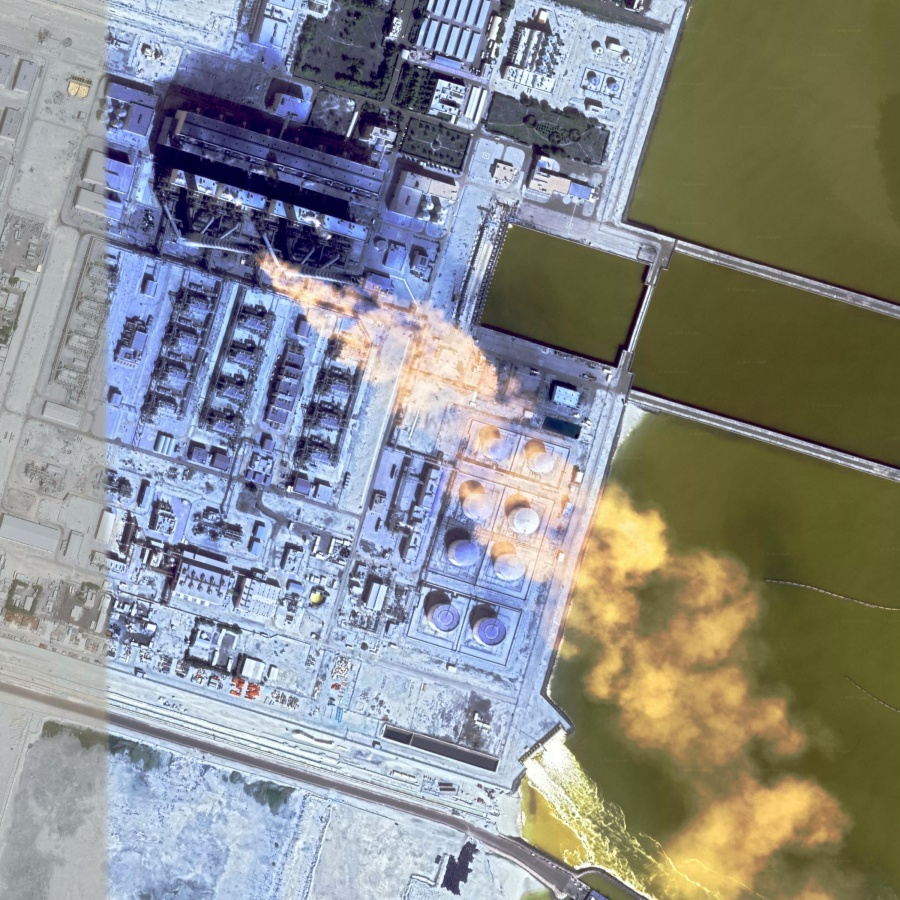PowerPlant: (46, 57, 594, 689)
